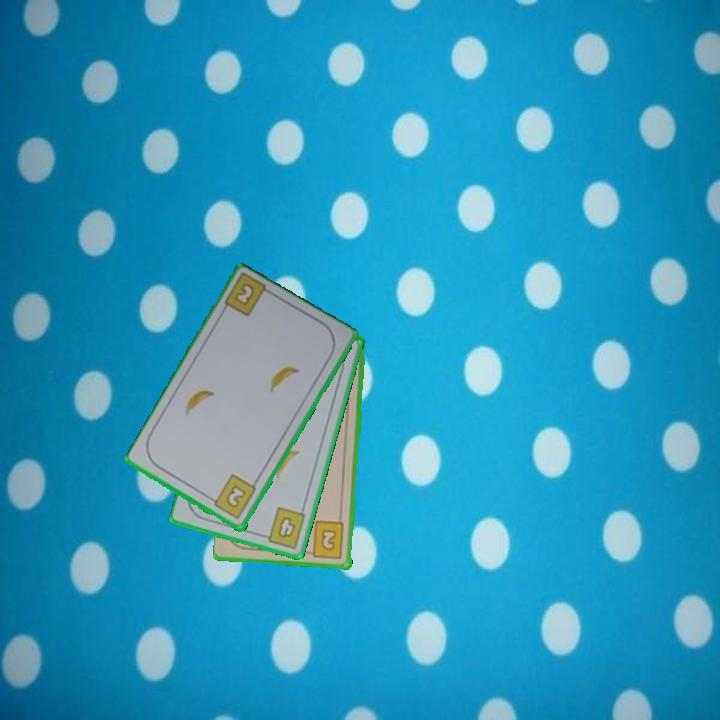2b: (206, 471, 259, 522), (303, 518, 347, 562), (233, 282, 255, 306)
4b: (258, 503, 308, 552)
